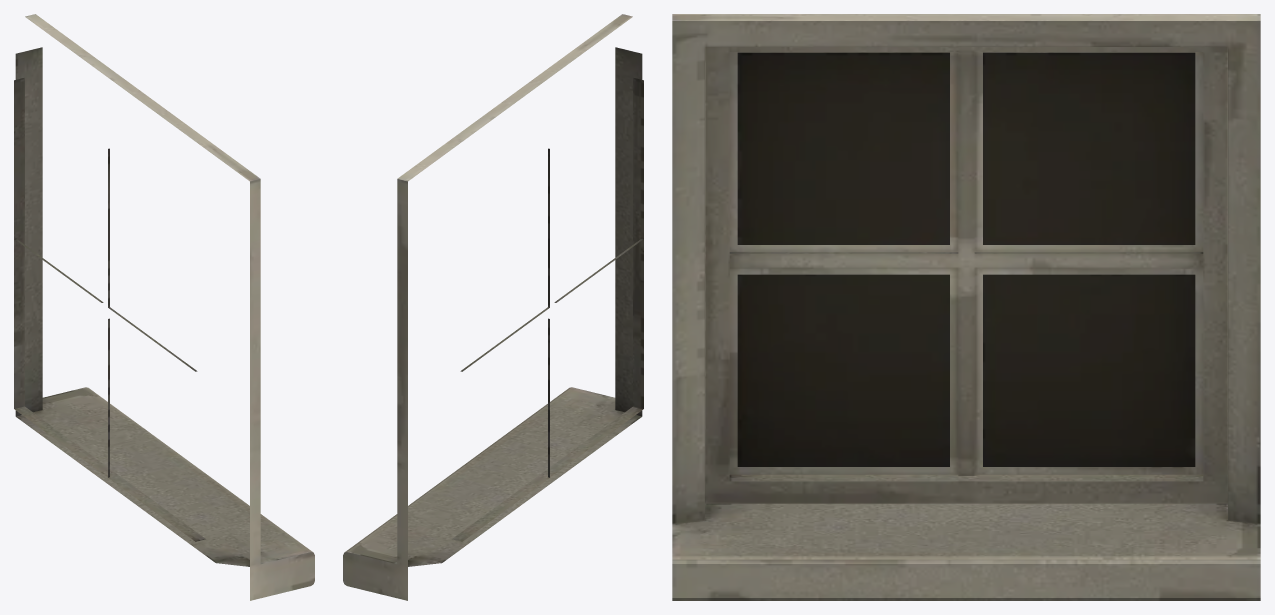
The picture shows the model from 3 angles, left to right: view 1: azimuth 30°, elevation 25°; view 2: azimuth 150°, elevation 25°; view 3: azimuth 270°, elevation 25°; orthographic projection. The views are drawn at different scales.
Parts seen in each view (by area): view 1: body0_model0_lod0_mesh0; view 2: body0_model0_lod0_mesh0; view 3: body0_model0_lod0_mesh0.
Part boxes in pixels (box(x1,y1,x2,y2)): body0_model0_lod0_mesh0: box(14, 14, 314, 600); body0_model0_lod0_mesh0: box(343, 14, 643, 600); body0_model0_lod0_mesh0: box(672, 14, 1260, 600).
Size of the model in its own units: 13.5 by 55.5 by 54.
Materials: 1 (1 with a texture image).
